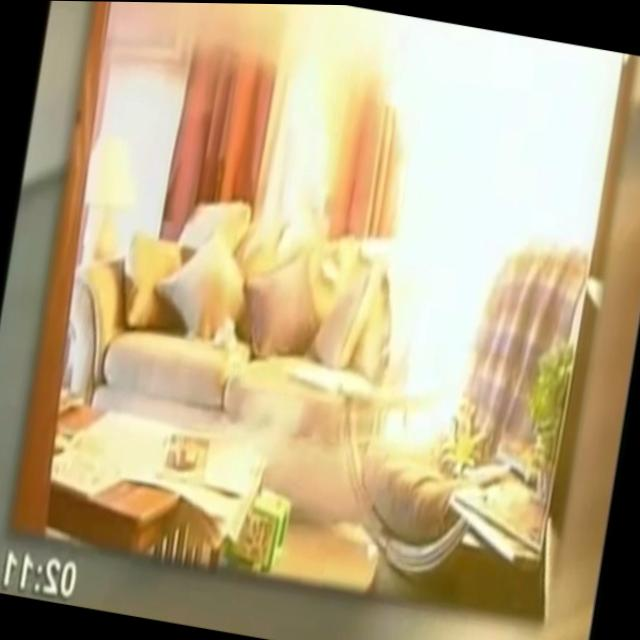fire: (318, 10, 621, 477)
